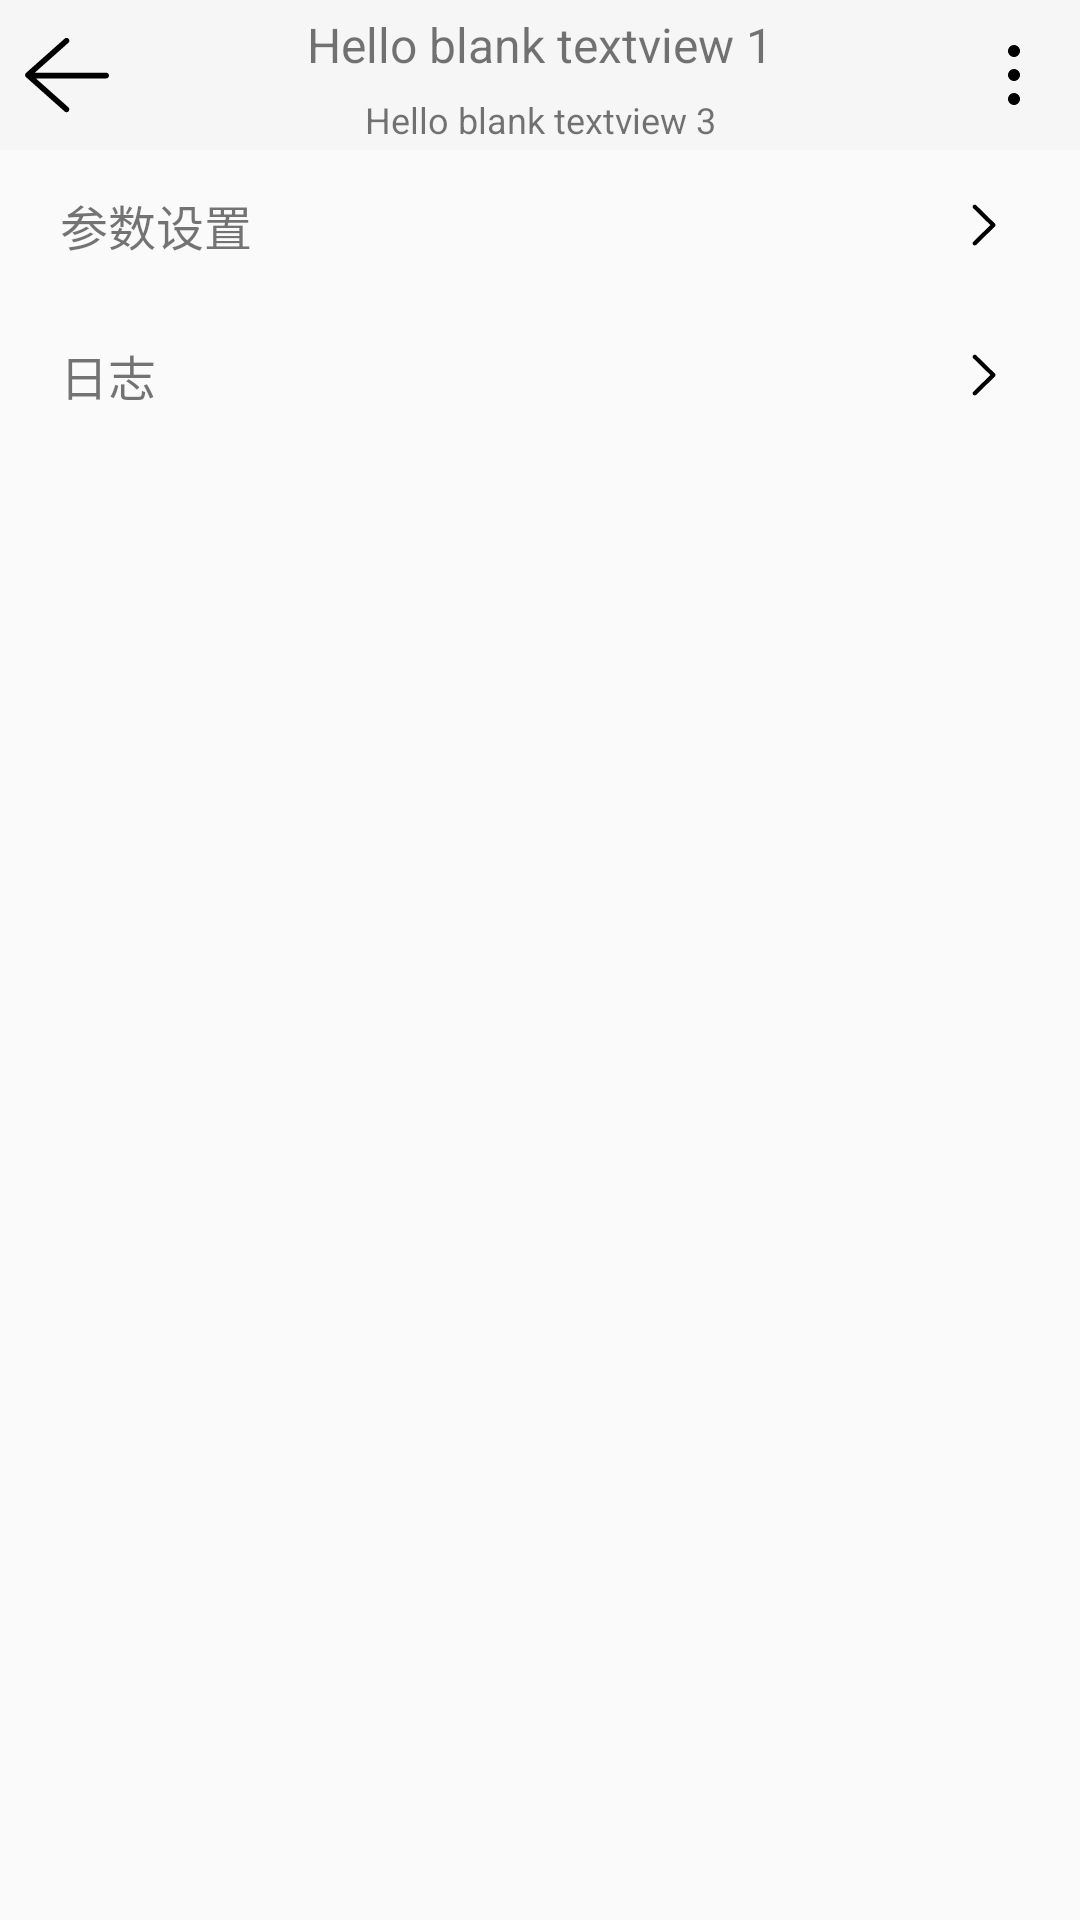

Named icons in this screenshot (1080x1920) and their centers, point (x, y):
back: point (67, 75)
more: point (1014, 75)
next: point (984, 225), point (984, 375)
